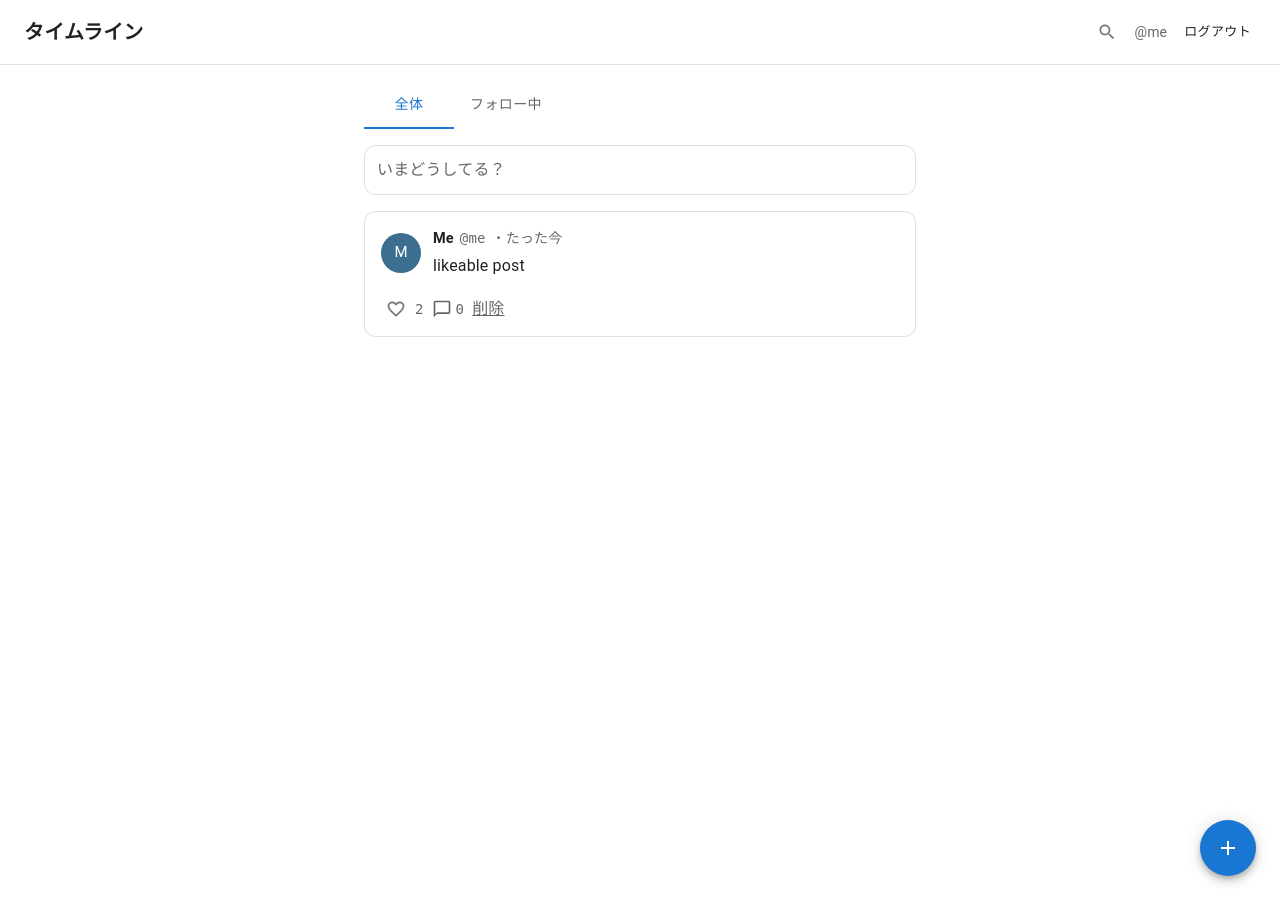
Test: TimelinePage › toggles like on a post and reflects the new count
Check: the text "likeable post" is shown, box [433, 256, 525, 275]
What coordinates should you click on to do the following:
click the button named "いいね"
I would click on:
 (396, 309)
Its box is [381, 294, 411, 324].
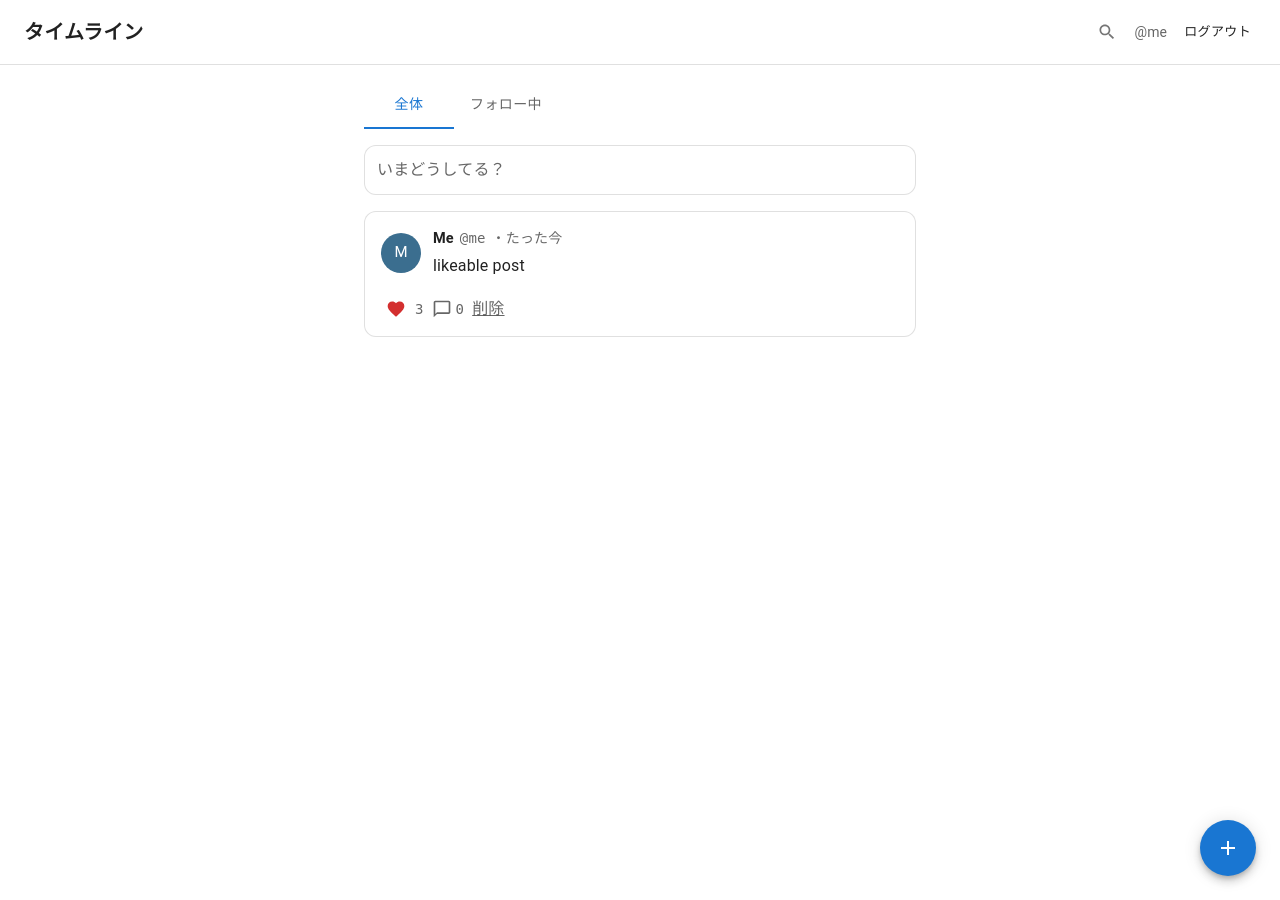
Check: the text "3" is shown, box [415, 299, 424, 319]
